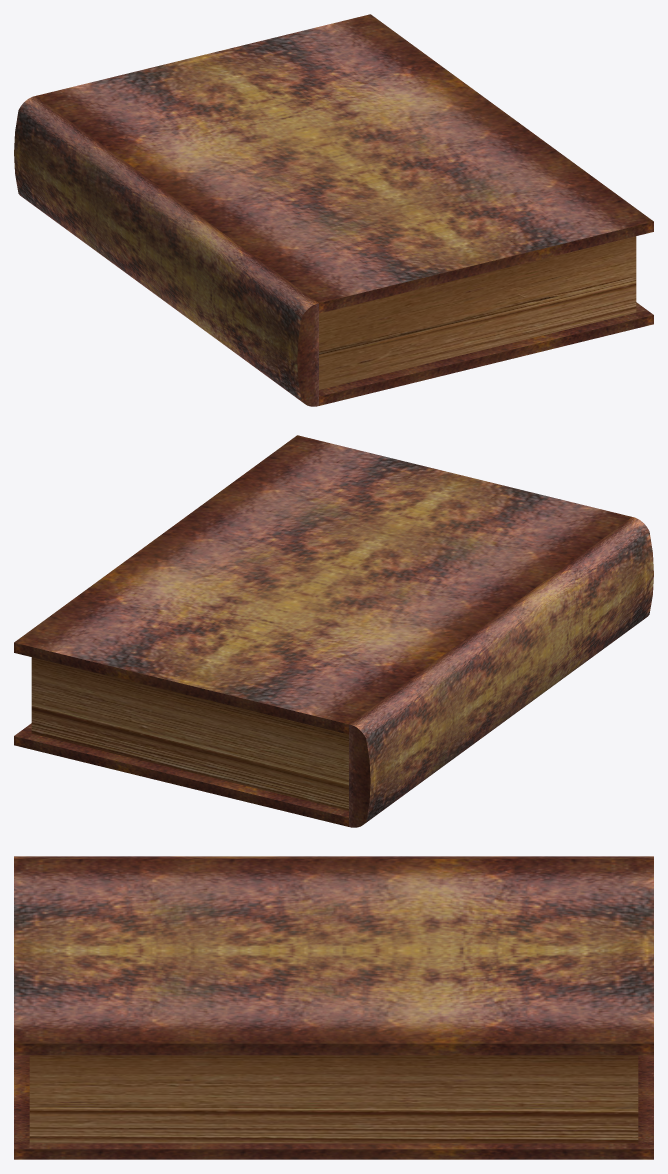
Rendered from book-07.fbx.
3 renders of one model, top to bottom at view 1: azimuth 30°, elevation 25°; view 2: azimuth 150°, elevation 25°; view 3: azimuth 270°, elevation 25°, orthographic. The views are drawn at different scales.
Parts seen in each view (by area): view 1: Cube.006; view 2: Cube.006; view 3: Cube.006.
Part boxes in pixels (x1,y1,x2,y2): Cube.006: (14,14,653,406); Cube.006: (14,435,653,827); Cube.006: (14,856,653,1159).
Bounding box in the file's own units: 0.3053 × 0.084 × 0.42.
